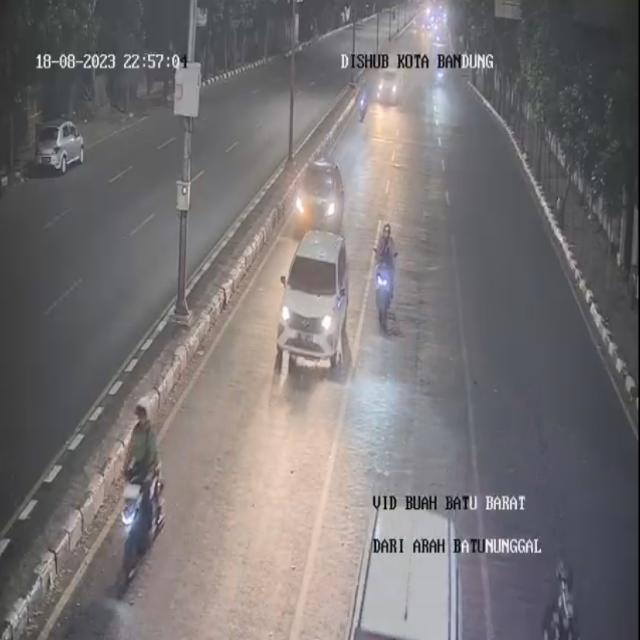cars: (276, 230, 349, 375), (294, 159, 345, 238), (377, 70, 403, 103)
motorcycle: (109, 402, 171, 583), (371, 217, 402, 339), (541, 559, 581, 640), (355, 72, 374, 126)
